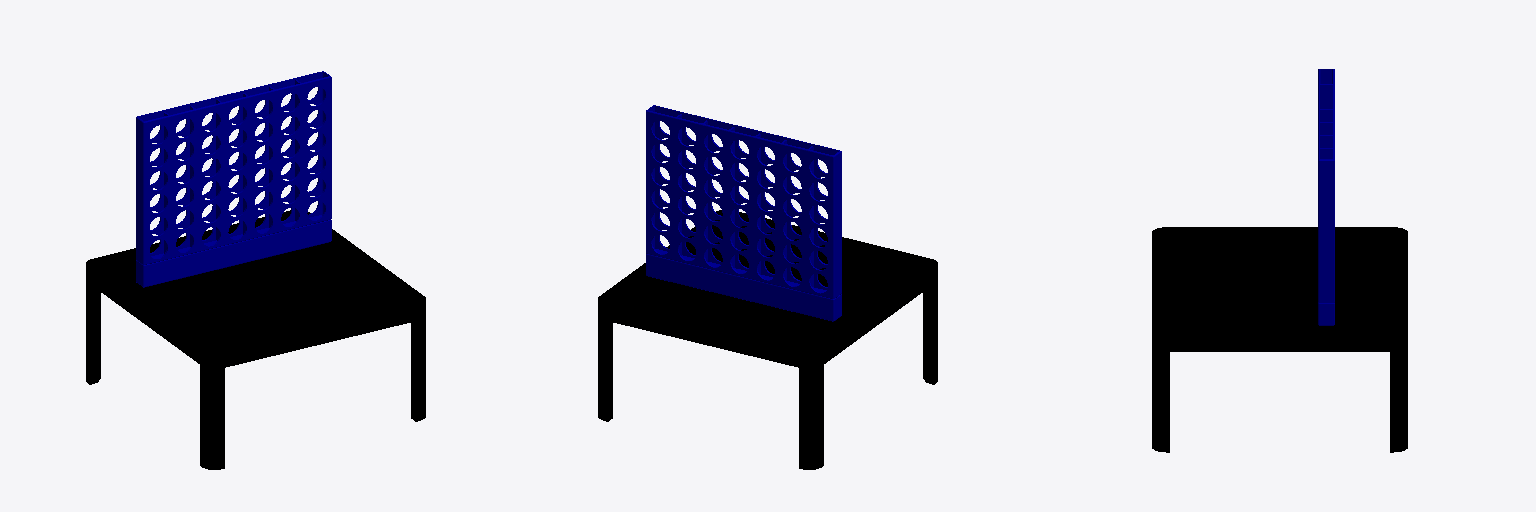
The model's file is ConnectFourBoard2.obj.
3 views of the same model, side by side, from view 1: azimuth 30°, elevation 25°; view 2: azimuth 150°, elevation 25°; view 3: azimuth 270°, elevation 25° (orthographic).
Visible parts, largest first — view 1: Cube, 4gewinnt_4gewinnt.001; view 2: 4gewinnt_4gewinnt.001, Cube; view 3: Cube, 4gewinnt_4gewinnt.001.
Boxes of the visible parts, x1=… form: Cube: x1=86, y1=210, x2=425, y2=469; 4gewinnt_4gewinnt.001: x1=136, y1=71, x2=331, y2=287; 4gewinnt_4gewinnt.001: x1=646, y1=105, x2=841, y2=321; Cube: x1=598, y1=210, x2=937, y2=469; Cube: x1=1152, y1=227, x2=1407, y2=452; 4gewinnt_4gewinnt.001: x1=1318, y1=69, x2=1334, y2=325.
Bounding box in the file's own units: 140 × 171 × 140.